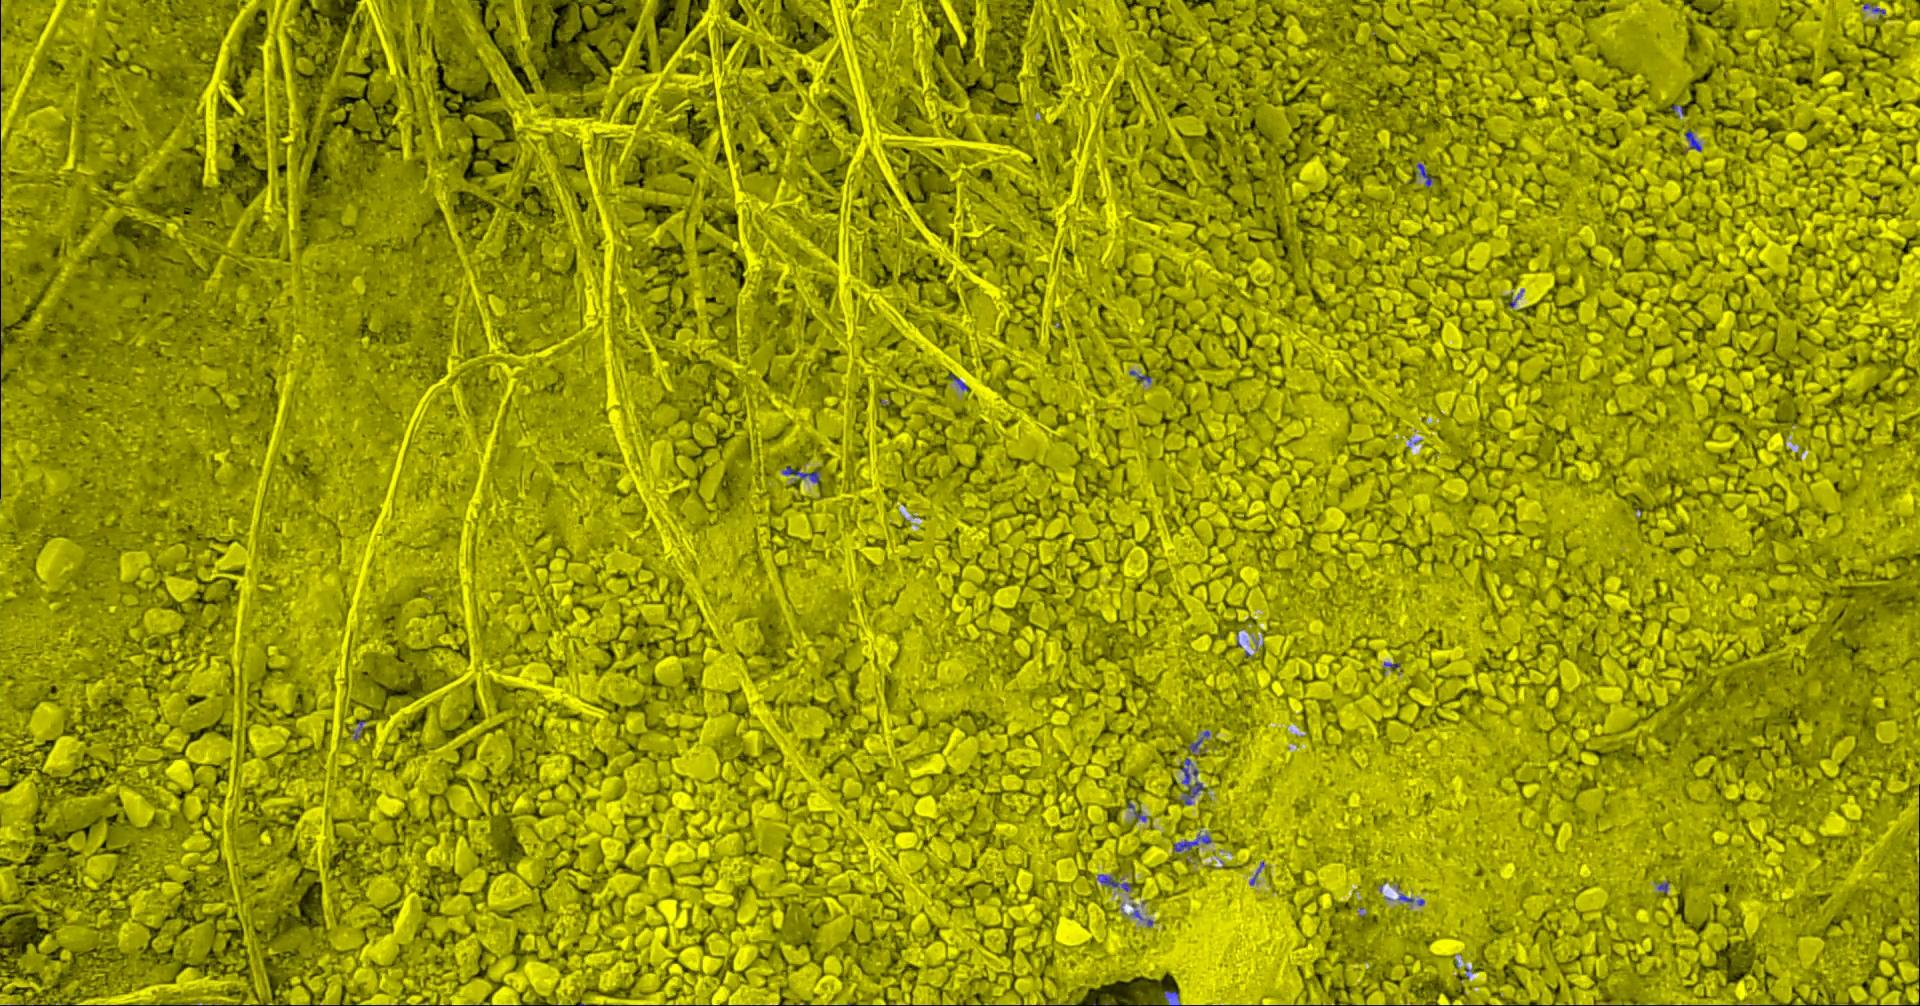ant: (1173, 835, 1210, 851), (782, 466, 819, 481), (1097, 874, 1130, 890), (1180, 757, 1197, 785), (1183, 781, 1204, 804), (1189, 730, 1209, 751), (1416, 163, 1432, 187), (1684, 130, 1702, 151), (1397, 893, 1423, 904), (1163, 989, 1178, 1005)
